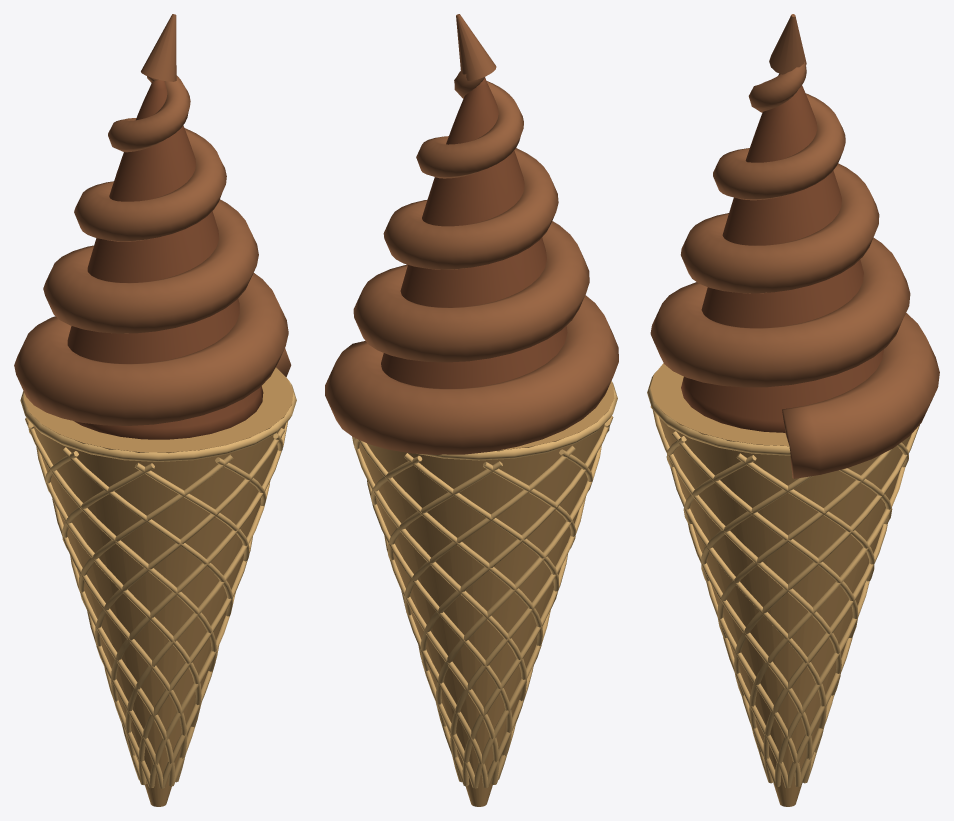
Rendered from icecream_chocolate_softserve_cone.glb.
The picture shows the model from 3 angles, left to right: view 1: azimuth 30°, elevation 25°; view 2: azimuth 150°, elevation 25°; view 3: azimuth 270°, elevation 25°; orthographic projection.
Visible parts, largest first — view 1: Continuous tapering chocolate spiral, Pointed waffle cone, Continuous tapered soft-serve core, Cone upper rolled edge, Diagonal baked waffle ridge.013, Diagonal baked waffle ridge.001, Diagonal baked waffle ridge, Diagonal baked waffle ridge.012, Diagonal baked waffle ridge.009, Diagonal baked waffle ridge.014, Soft-serve pointed tip, Diagonal baked waffle ridge.015 (+9 smaller); view 2: Continuous tapering chocolate spiral, Pointed waffle cone, Continuous tapered soft-serve core, Diagonal baked waffle ridge.019, Diagonal baked waffle ridge.007, Diagonal baked waffle ridge.010, Diagonal baked waffle ridge.011, Cone upper rolled edge, Diagonal baked waffle ridge.006, Diagonal baked waffle ridge.008, Soft-serve pointed tip, Diagonal baked waffle ridge.005 (+9 smaller); view 3: Continuous tapering chocolate spiral, Pointed waffle cone, Continuous tapered soft-serve core, Diagonal baked waffle ridge.004, Diagonal baked waffle ridge.016, Diagonal baked waffle ridge.003, Diagonal baked waffle ridge.017, Diagonal baked waffle ridge.002, Diagonal baked waffle ridge.018, Diagonal baked waffle ridge.005, Cone upper rolled edge, Diagonal baked waffle ridge.015 (+8 smaller).
Part boxes in pixels (box(x1,y1,x2,y2)): Continuous tapering chocolate spiral: box(14, 75, 291, 425); Pointed waffle cone: box(24, 367, 293, 806); Continuous tapered soft-serve core: box(67, 80, 263, 439); Cone upper rolled edge: box(20, 380, 296, 461); Diagonal baked waffle ridge.013: box(110, 421, 287, 723); Diagonal baked waffle ridge.001: box(25, 417, 216, 671); Diagonal baked waffle ridge: box(36, 447, 201, 727); Diagonal baked waffle ridge.012: box(94, 428, 284, 666); Diagonal baked waffle ridge.009: box(52, 498, 186, 782); Diagonal baked waffle ridge.014: box(125, 481, 270, 779); Soft-serve pointed tip: box(141, 14, 176, 81); Diagonal baked waffle ridge.015: box(138, 536, 252, 785); Continuous tapering chocolate spiral: box(325, 71, 618, 454); Pointed waffle cone: box(359, 382, 614, 806); Continuous tapered soft-serve core: box(381, 77, 567, 388); Diagonal baked waffle ridge.019: box(420, 416, 613, 670); Diagonal baked waffle ridge.007: box(352, 436, 526, 723); Diagonal baked waffle ridge.010: box(436, 445, 601, 726); Diagonal baked waffle ridge.011: box(450, 497, 585, 782); Cone upper rolled edge: box(419, 381, 617, 460); Diagonal baked waffle ridge.006: box(367, 480, 512, 779); Diagonal baked waffle ridge.008: box(358, 439, 542, 665); Soft-serve pointed tip: box(456, 14, 496, 80); Diagonal baked waffle ridge.005: box(384, 535, 498, 784); Continuous tapering chocolate spiral: box(650, 62, 939, 478); Pointed waffle cone: box(650, 363, 911, 806); Continuous tapered soft-serve core: box(681, 73, 883, 432); Diagonal baked waffle ridge.004: box(652, 410, 841, 695); Diagonal baked waffle ridge.016: box(734, 425, 919, 696); Diagonal baked waffle ridge.003: box(670, 467, 826, 752); Diagonal baked waffle ridge.017: box(749, 467, 905, 752); Diagonal baked waffle ridge.002: box(688, 523, 812, 783); Diagonal baked waffle ridge.018: box(763, 523, 887, 783); Diagonal baked waffle ridge.005: box(672, 431, 858, 637); Cone upper rolled edge: box(647, 371, 790, 455); Diagonal baked waffle ridge.015: box(717, 448, 892, 638).
Bounding box in the file's own units: 0.1125 × 0.3263 × 0.1085.
